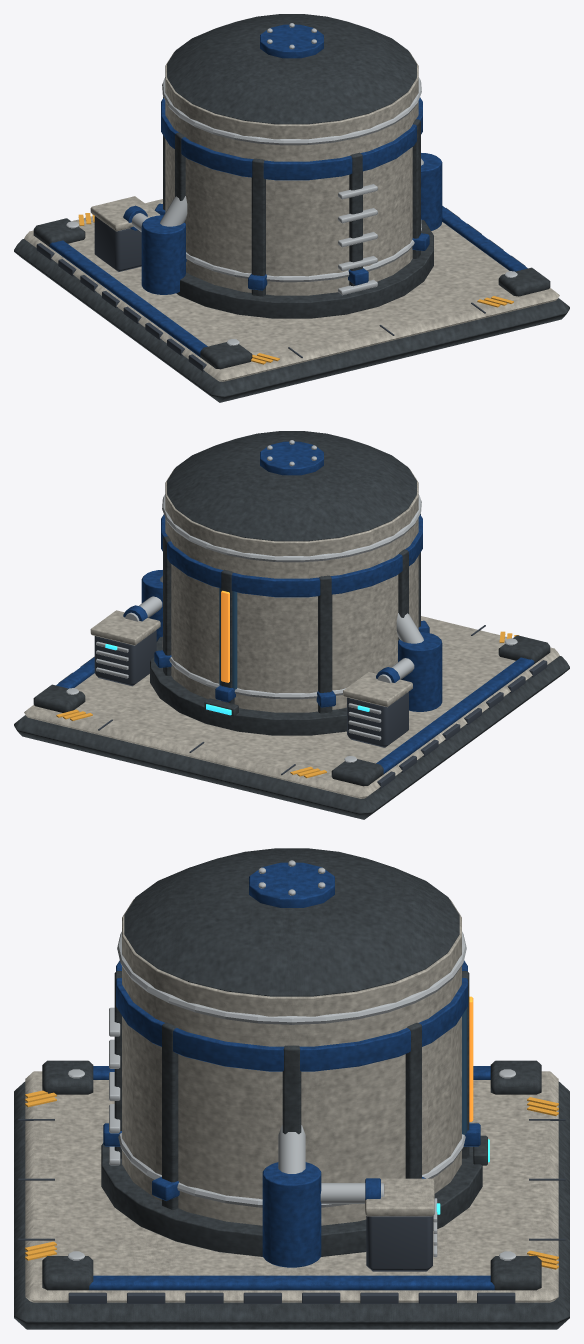
The model's file is solis_reservoir_d_epice.gltf.
3 renders of one model, top to bottom at view 1: azimuth 30°, elevation 25°; view 2: azimuth 150°, elevation 25°; view 3: azimuth 270°, elevation 25°, orthographic. The views are drawn at different scales.
Visible parts, largest first — view 1: Building.007_Geometry; view 2: Building.007_Geometry; view 3: Building.007_Geometry.
Boxes of the visible parts, left/top/right/bottom form: Building.007_Geometry: left=14, top=14, right=569, bottom=402; Building.007_Geometry: left=14, top=431, right=569, bottom=819; Building.007_Geometry: left=14, top=848, right=569, bottom=1329.
Size of the model in its own units: 3.92 by 2.66 by 3.92.
Materials: 9 (3 with a texture image).
